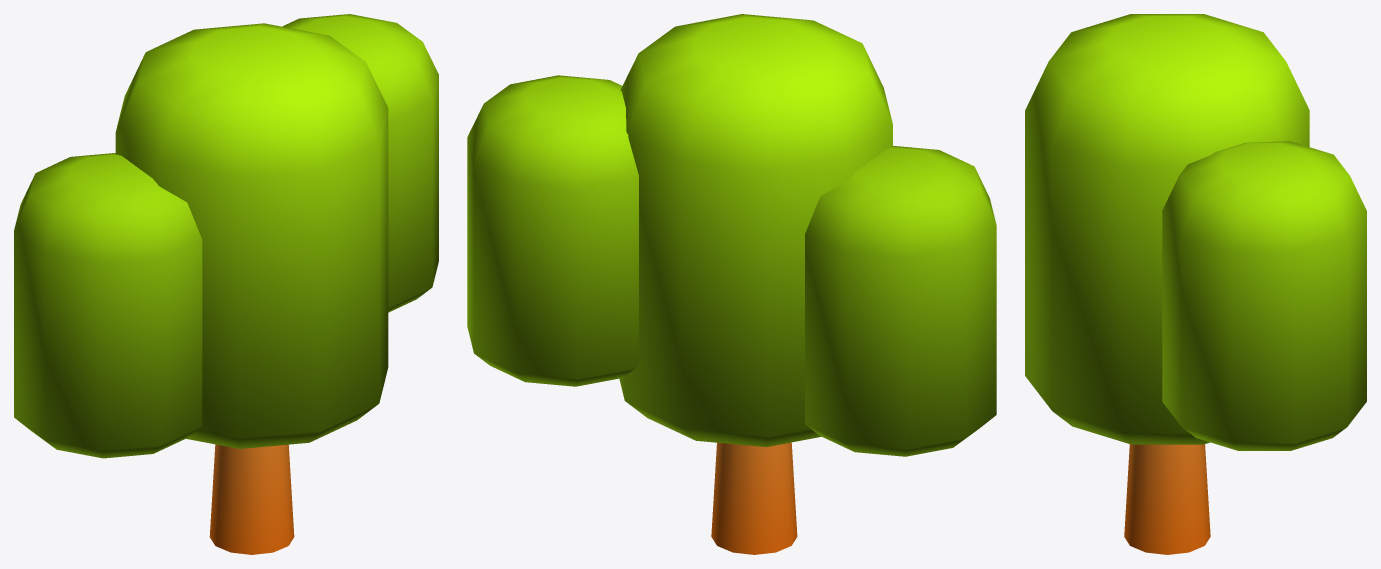
The model's file is Plant_C_Step_01.fbx.
The picture shows the model from 3 angles, left to right: view 1: azimuth 30°, elevation 25°; view 2: azimuth 150°, elevation 25°; view 3: azimuth 270°, elevation 25°; orthographic projection. The views are drawn at different scales.
Visible parts, largest first — view 1: Plant_C_Step_01; view 2: Plant_C_Step_01; view 3: Plant_C_Step_01.
Part boxes in pixels (left/top/right/bottom): Plant_C_Step_01: left=14, top=14, right=438, bottom=554; Plant_C_Step_01: left=467, top=14, right=996, bottom=554; Plant_C_Step_01: left=1025, top=14, right=1366, bottom=554.
Size of the model in its own units: 780 by 818 by 512.
